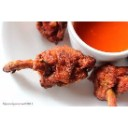chicken_lollipop: (3, 48, 94, 88), (90, 62, 128, 103)
